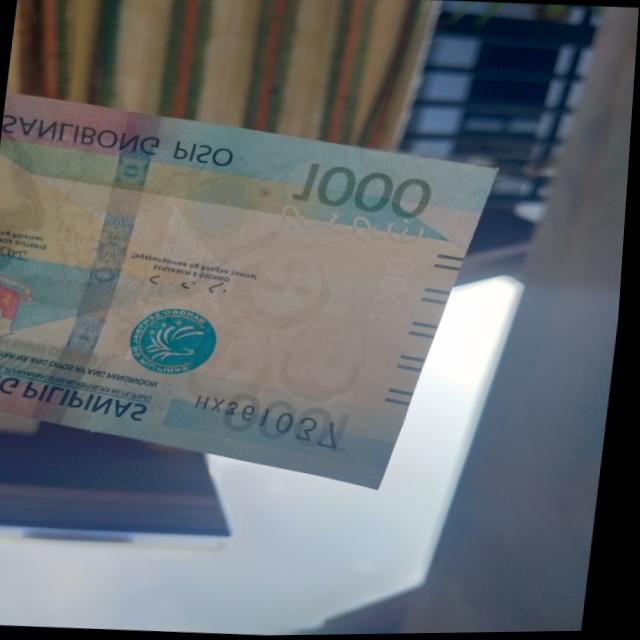security_thread: (33, 107, 163, 429)
see_through_mark: (267, 199, 438, 253)
serial_number: (185, 389, 366, 458)
value_watermark: (365, 247, 429, 334)
watermark: (179, 216, 397, 423)
